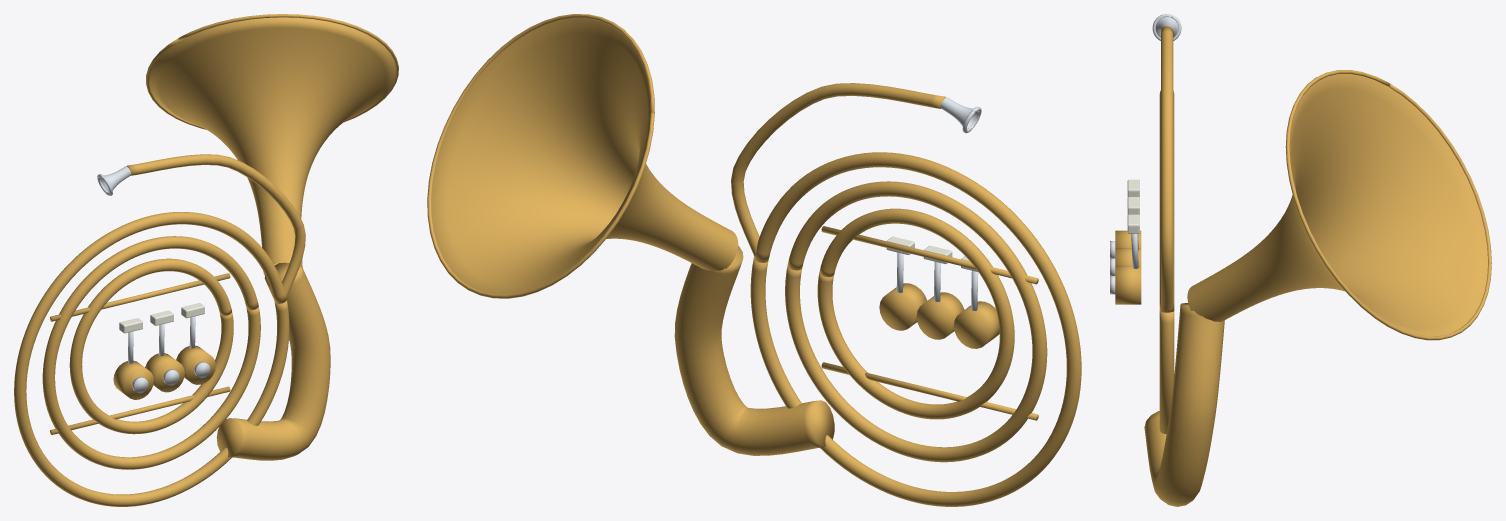
File: cor.glb
3 views of the same model, side by side, from view 1: azimuth 30°, elevation 25°; view 2: azimuth 150°, elevation 25°; view 3: azimuth 270°, elevation 25° (orthographic). The views are drawn at different scales.
Visible parts, largest first — view 1: cor — Laiton poli, cor — Maillechort argente, cor — Nacre; view 2: cor — Laiton poli, cor — Maillechort argente; view 3: cor — Laiton poli, cor — Maillechort argente, cor — Nacre.
Part boxes in pixels (x1,y1,x2,y2): cor — Laiton poli: (14, 14, 398, 506); cor — Maillechort argente: (97, 166, 210, 393); cor — Nacre: (119, 303, 204, 333); cor — Laiton poli: (427, 14, 1081, 506); cor — Maillechort argente: (896, 97, 981, 310); cor — Laiton poli: (1115, 26, 1491, 506); cor — Maillechort argente: (1110, 14, 1181, 294); cor — Nacre: (1127, 179, 1139, 233).
Bounding box in the file's own units: 0.5893 × 0.4905 × 0.3689.
